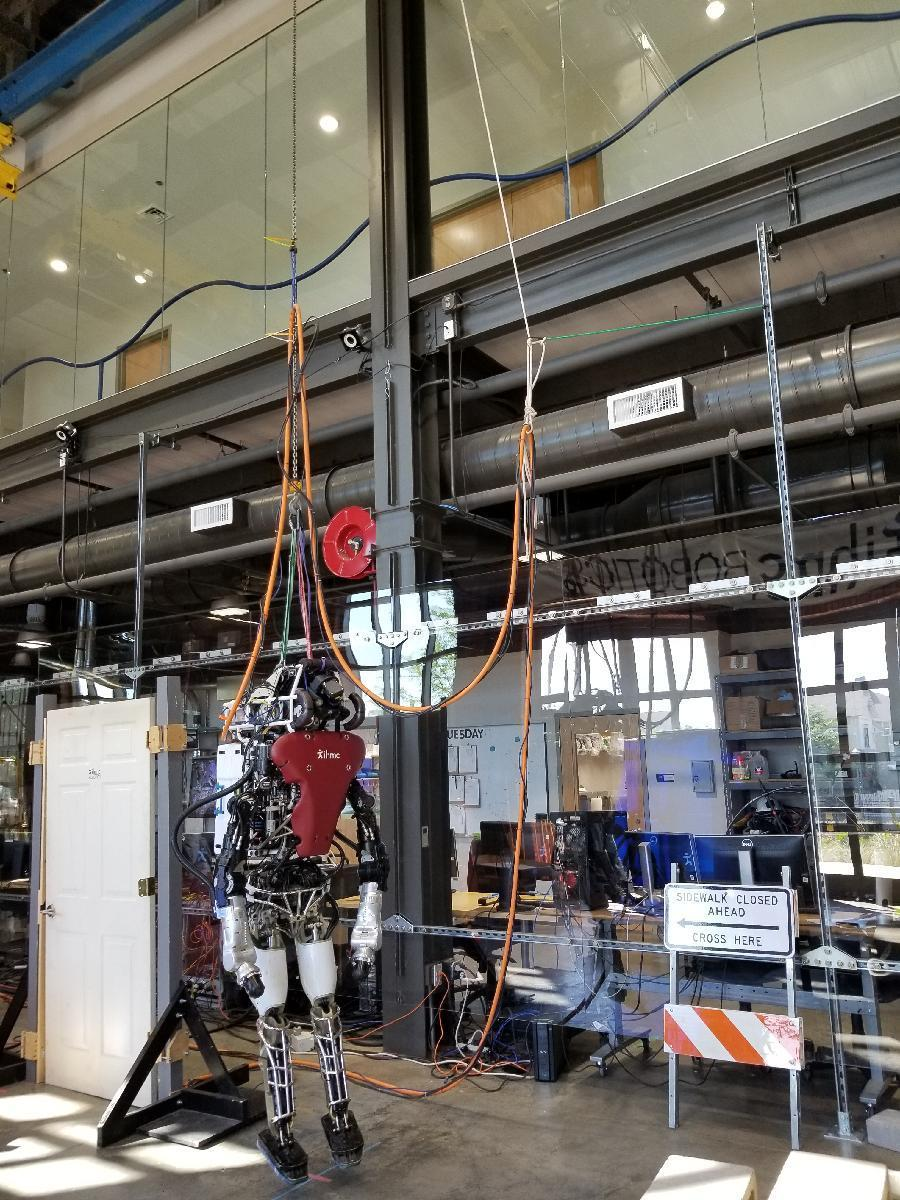door: (44, 703, 156, 1115)
